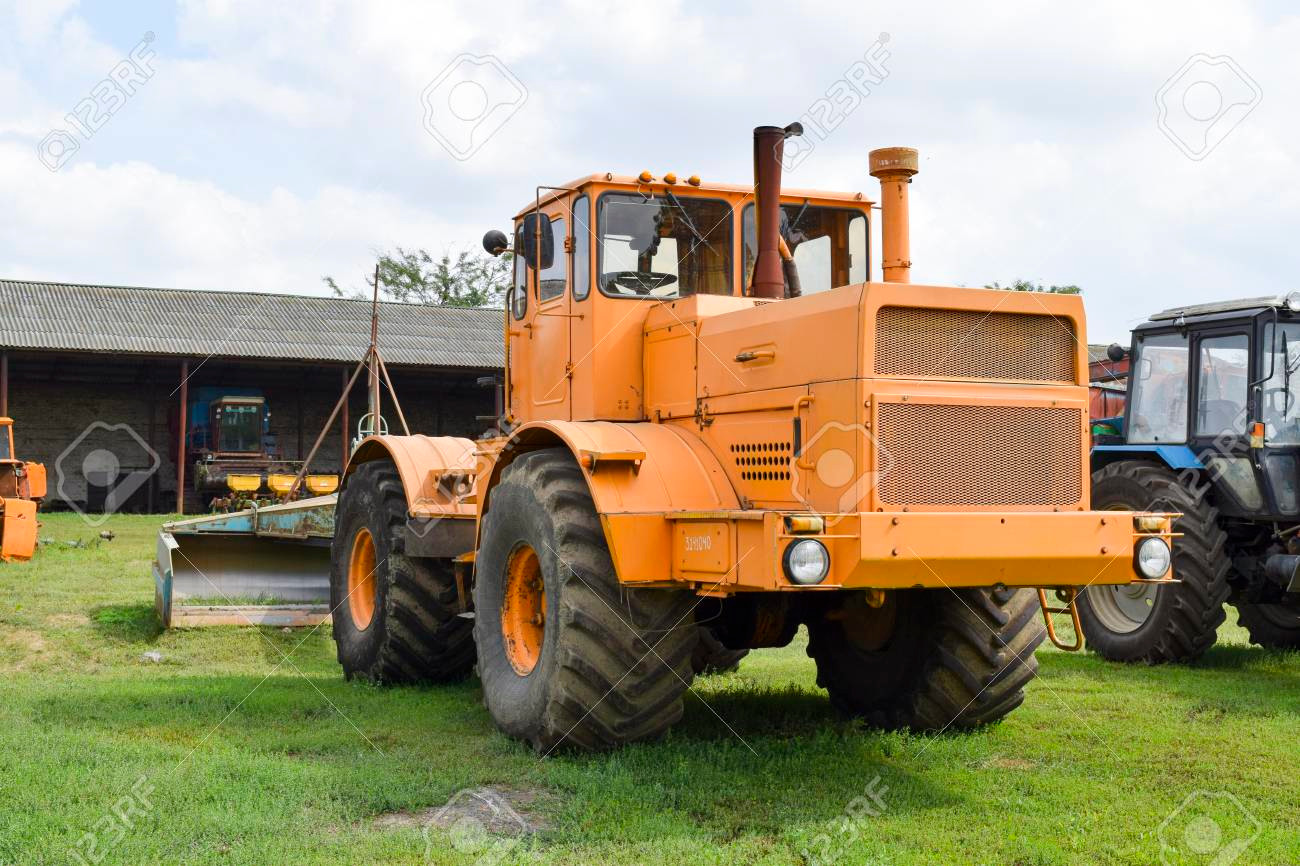tractor: (323, 122, 1187, 755)
